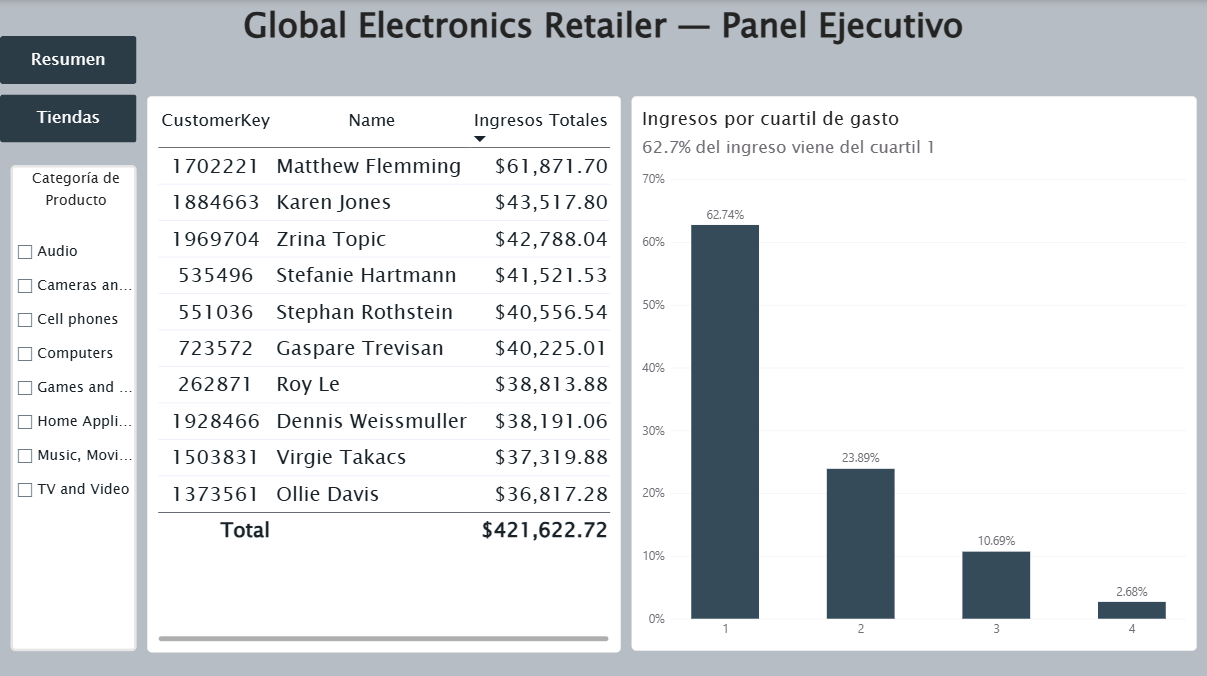

What the dashboard file says about the page in this screenshot:
{"tool":"powerbi","page":{"name":"Clientes","canvas":[1920,1080],"ordinal":2},"visuals":[{"type":"columnChart","title":" Ingresos por cuartil de gasto","fields":{"Category":["vw_CustomerQuartiles.Spend_Quartile"],"Y":["Sum(vw_CustomerQuartiles.Ingreso_Total_Cuartil)"]},"box":[1004.5,152.7,899.5,882.8],"z":0},{"type":"actionButton","box":[0,57.3,217.1,76.3],"z":1000},{"type":"actionButton","box":[0,150.3,217.1,76.3],"z":2000},{"type":"tableEx","fields":{"Values":["Customers.CustomerKey","Customers.Name","Medidas.Ingresos Totales"]},"box":[233.8,152.7,753.9,885.2],"z":3000},{"type":"slicer","title":"Categoría de Producto","fields":{"Values":["Products.Category"]},"box":[16.7,262.5,200.4,773],"z":3001},{"type":"textbox","box":[374.6,0,1170.7,96.4],"z":3002}]}

Visuals, with their boxes in screenshot pixels (x1, y1, x2, y2), scaled from the page's 1920x1080 canvas onto the 1207x676 screenshot:
" Ingresos por cuartil de gasto" columnChart: (631, 96, 1197, 648)
actionButton: (0, 36, 136, 84)
actionButton: (0, 94, 136, 142)
tableEx - Customers.CustomerKey x Customers.Name: (147, 96, 621, 650)
"Categoría de Producto" slicer: (10, 164, 136, 648)
textbox: (235, 0, 971, 60)
